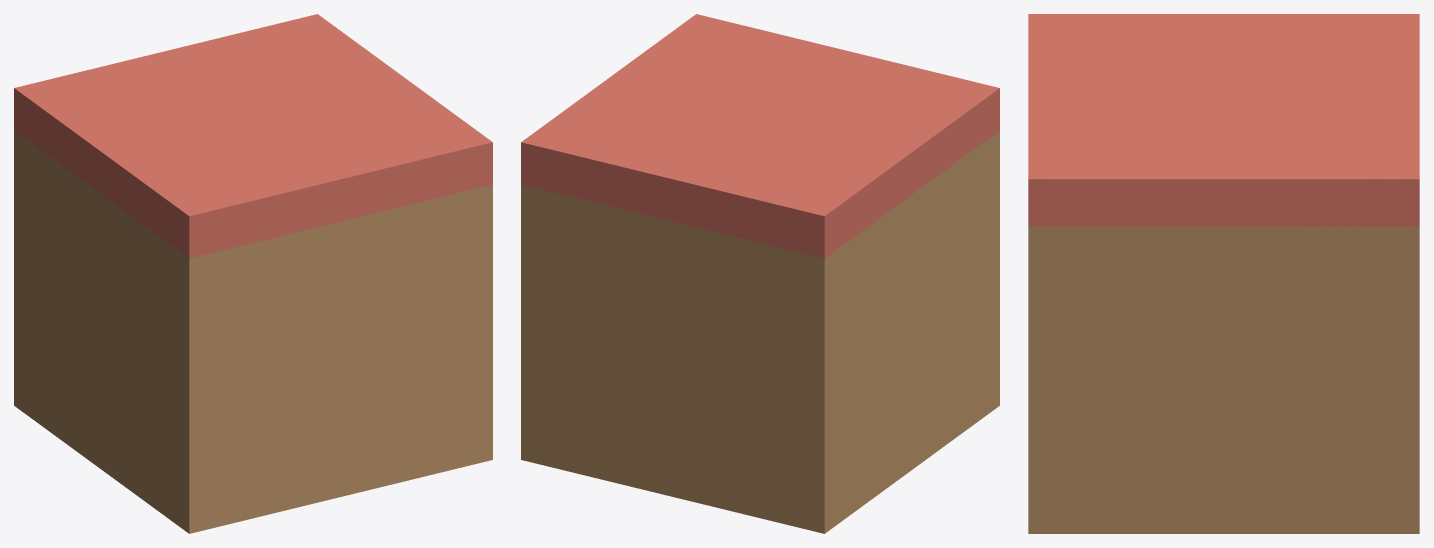
File: hinged-box.glb
3 renders of one model, left to right at view 1: azimuth 30°, elevation 25°; view 2: azimuth 150°, elevation 25°; view 3: azimuth 270°, elevation 25°, orthographic. The views are drawn at different scales.
Parts seen in each view (by area): view 1: Base, LidPanel; view 2: Base, LidPanel; view 3: Base, LidPanel.
Part boxes in pixels (x1,y1,x2,y2): Base: [14, 130, 492, 533]; LidPanel: [14, 14, 492, 258]; Base: [521, 130, 999, 533]; LidPanel: [521, 14, 999, 258]; Base: [1028, 226, 1419, 533]; LidPanel: [1028, 14, 1419, 226].
Bounding box in the file's own units: 0.3 × 0.3 × 0.3.
